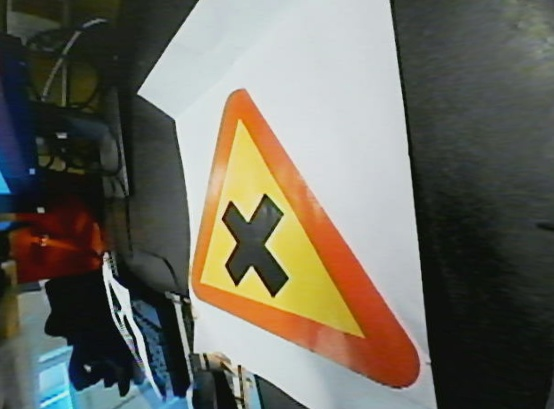junction: (180, 86, 428, 393)
